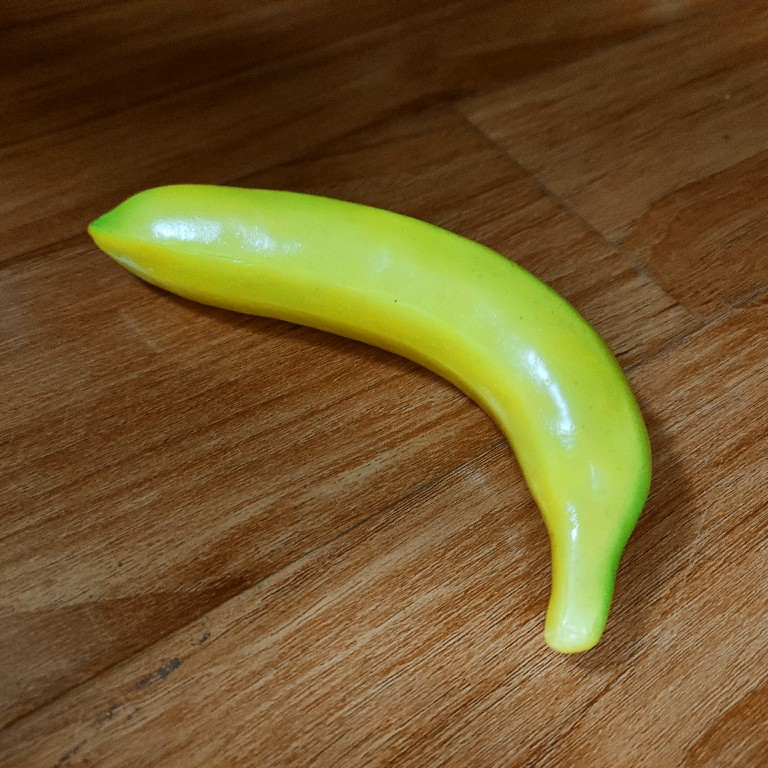fruit_banana: (79, 176, 657, 656)
